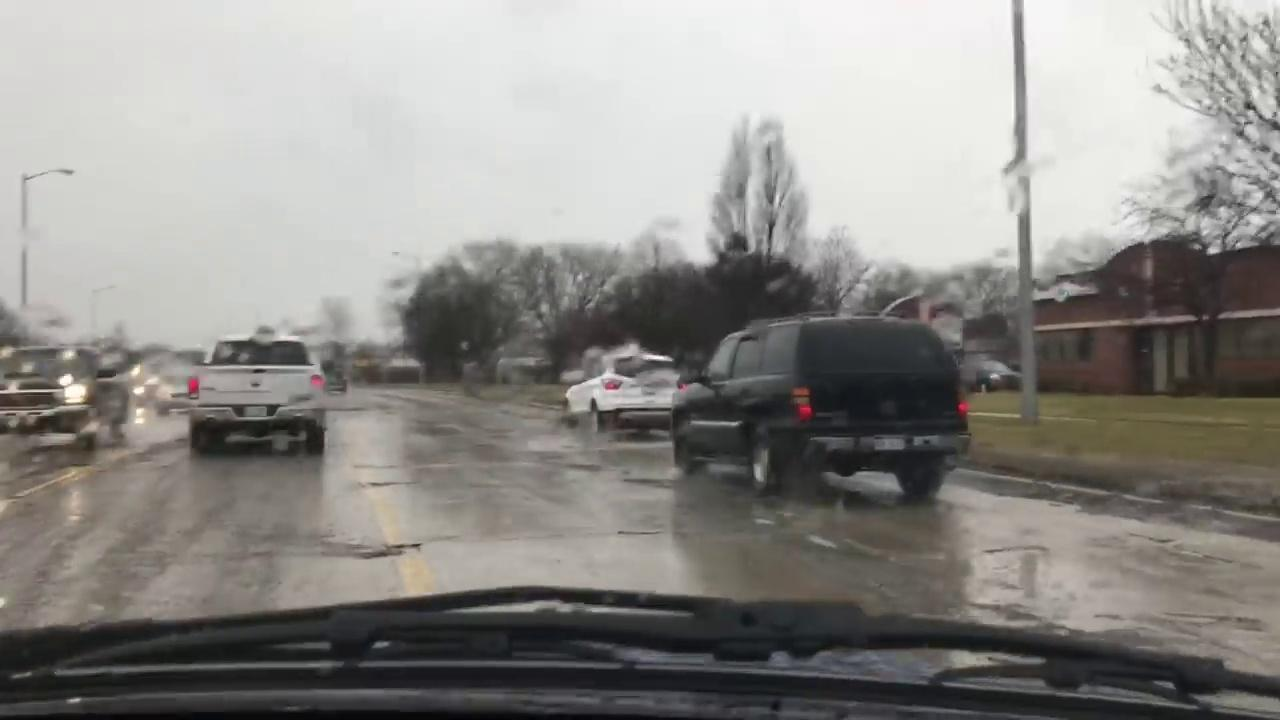pothole: (341, 543, 421, 558), (980, 541, 1051, 557), (358, 478, 413, 486), (357, 466, 402, 471)
